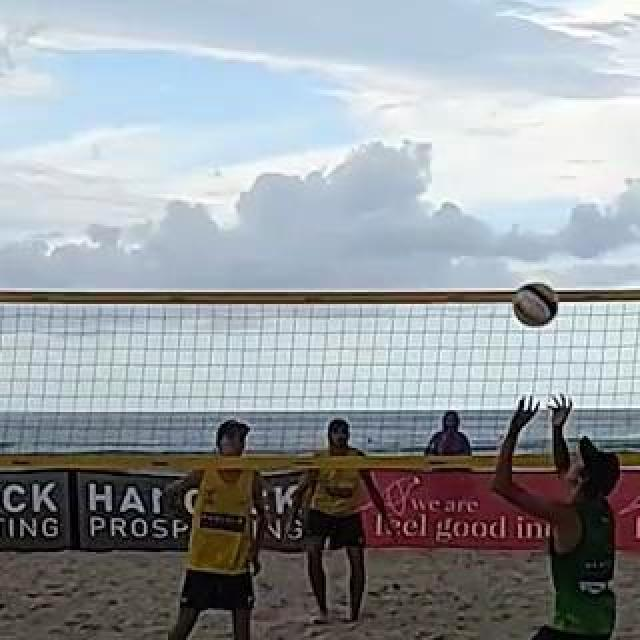volleyball: (516, 281, 560, 327)
